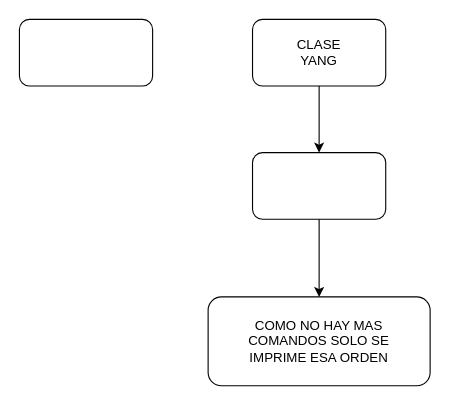
This 450x405 diagram has some shape labels left out. The shapes that lost their labels are listed below. From the top down, each one's centre as x and y in pixels, then its label:
At point (85, 52): "NO EXISTE CLASE YING".
At point (318, 185): "YANG HA SIDO DESTRUIDO".
